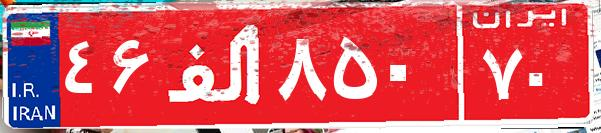0: (385, 28, 445, 110), (525, 38, 570, 115)
4: (57, 26, 110, 107)
5: (330, 28, 385, 110)
6: (110, 28, 158, 105)
7: (475, 38, 525, 113)
8: (273, 28, 330, 110)
الف: (158, 15, 273, 115)
